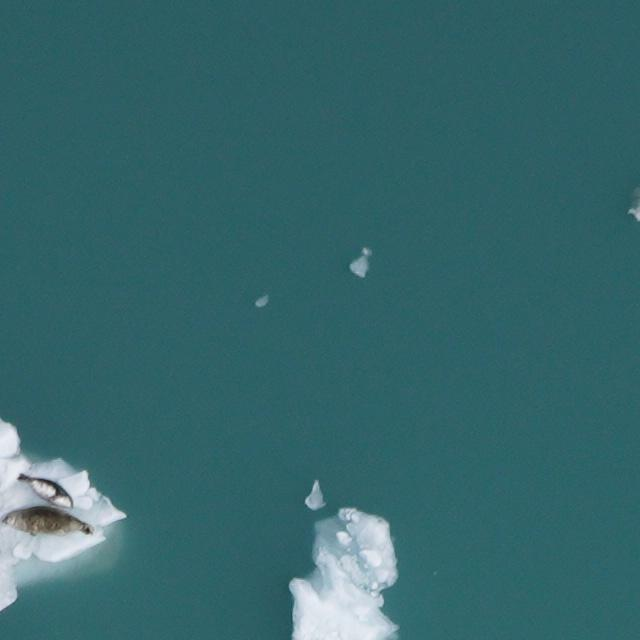seal: (13, 464, 82, 518), (1, 504, 97, 539)
